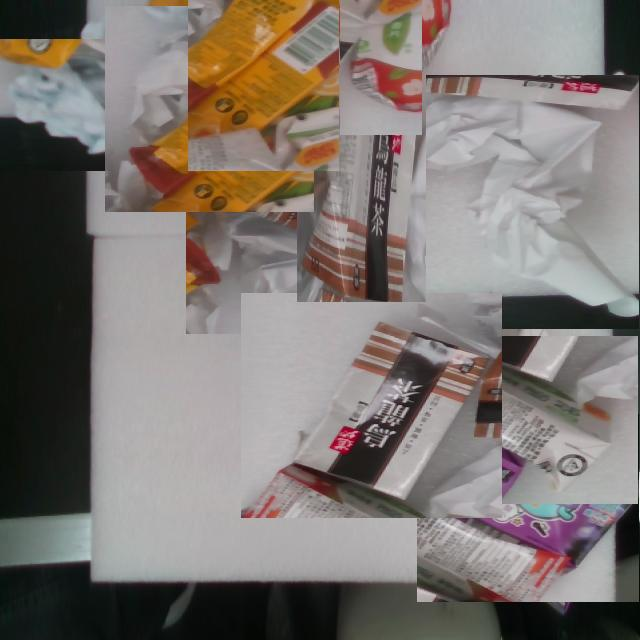juicebox: (241, 258, 502, 552), (365, 315, 638, 515), (418, 367, 640, 602), (279, 44, 427, 303), (345, 0, 423, 135)
paper: (165, 138, 378, 351), (103, 41, 272, 217), (0, 39, 196, 181)
